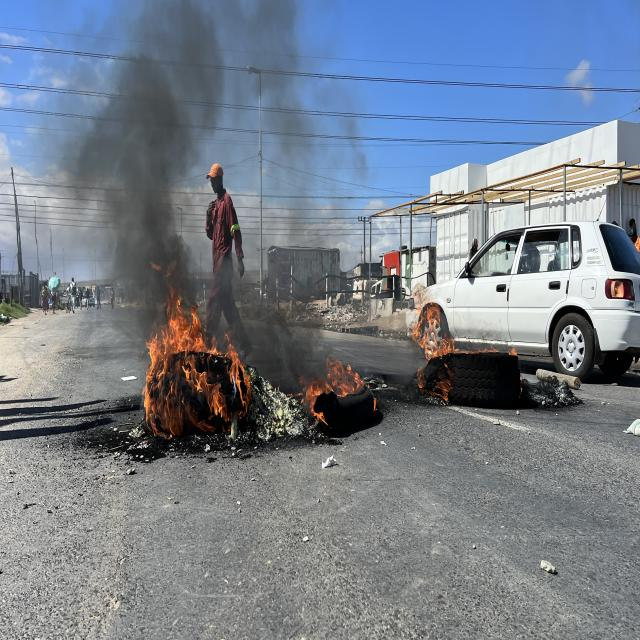fire: (142, 292, 251, 441), (305, 356, 366, 426), (412, 306, 455, 360)
